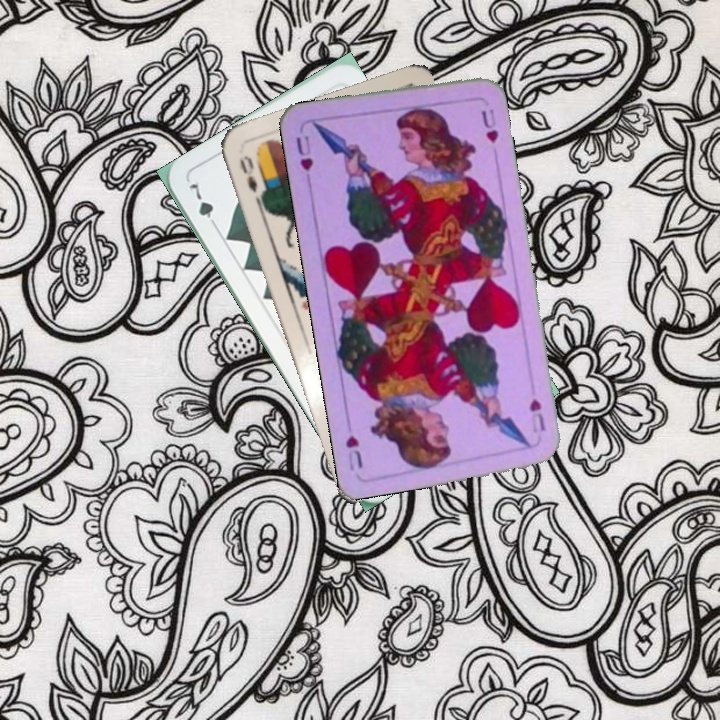EO: (235, 151, 268, 204)
G7: (184, 177, 221, 231)
HU: (525, 394, 548, 440), (292, 131, 316, 174)
